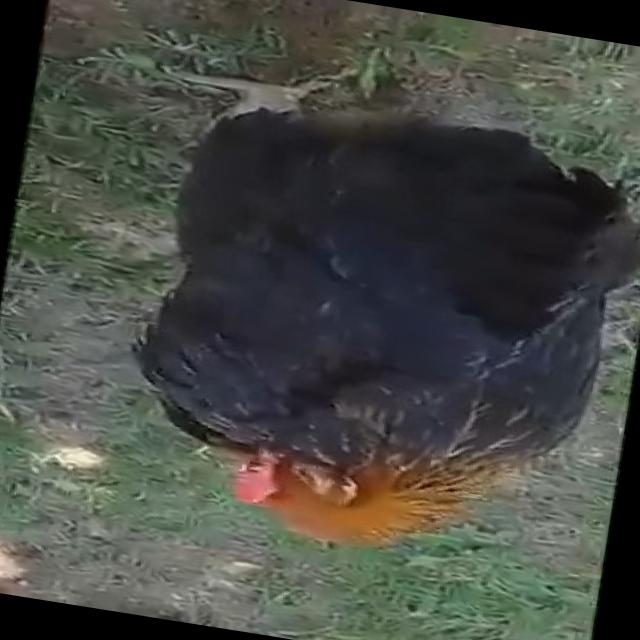self preening: (99, 50, 640, 592)
